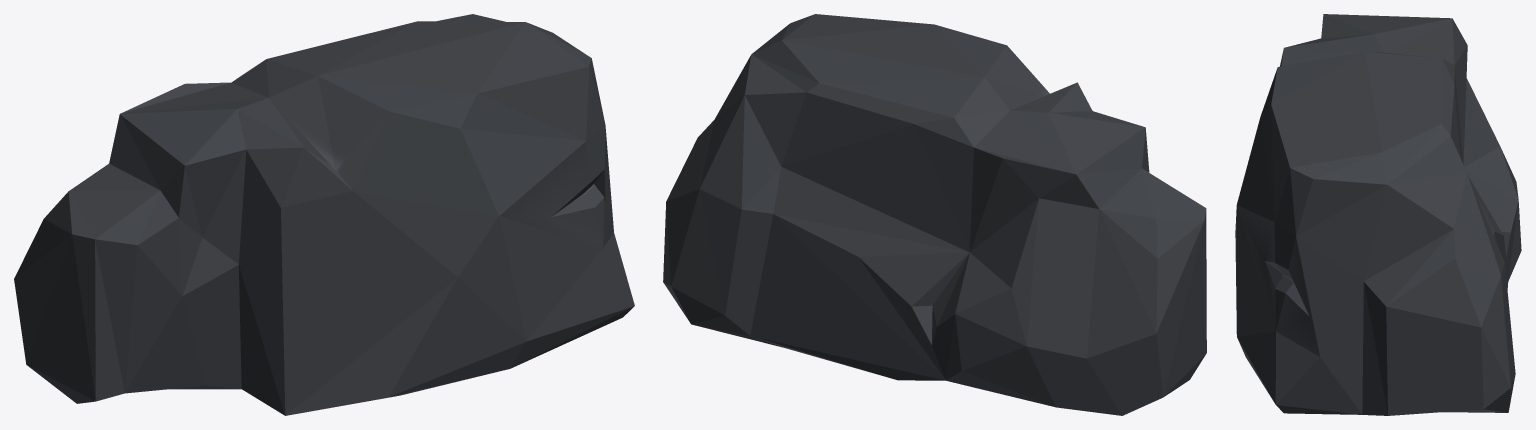
The model's file is crypt_rock.gltf.
The picture shows the model from 3 angles, left to right: view 1: azimuth 30°, elevation 25°; view 2: azimuth 150°, elevation 25°; view 3: azimuth 270°, elevation 25°; orthographic projection. The views are drawn at different scales.
Visible parts, largest first — view 1: crypt_rock; view 2: crypt_rock; view 3: crypt_rock.
Part boxes in pixels (x1,y1,x2,y2): crypt_rock: (14, 14, 634, 415); crypt_rock: (663, 14, 1206, 415); crypt_rock: (1235, 14, 1521, 415).
Size of the model in its own units: 2.93 by 1.53 by 1.48.
Materials: 1 (1 with a texture image).
